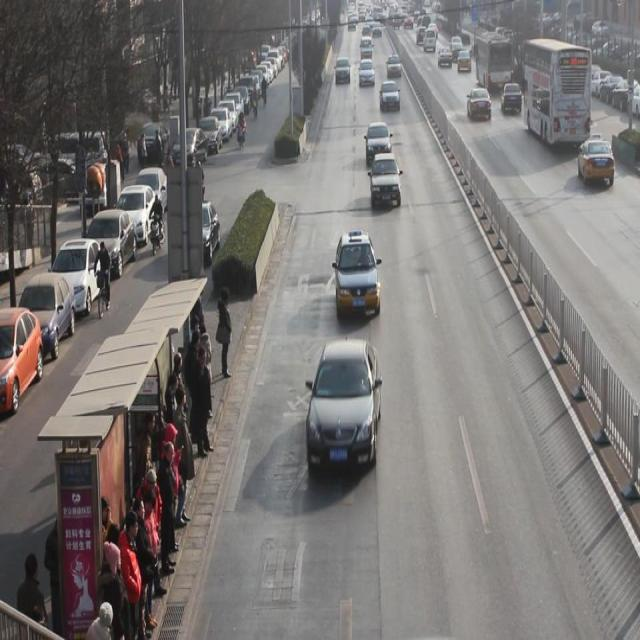car: (304, 338, 382, 475), (336, 232, 382, 316), (577, 139, 615, 185), (372, 152, 401, 207), (366, 123, 392, 166), (379, 80, 401, 113), (469, 88, 491, 120), (502, 82, 522, 114), (360, 59, 376, 88), (335, 56, 351, 84)
van: (522, 39, 589, 151), (474, 30, 512, 90)
